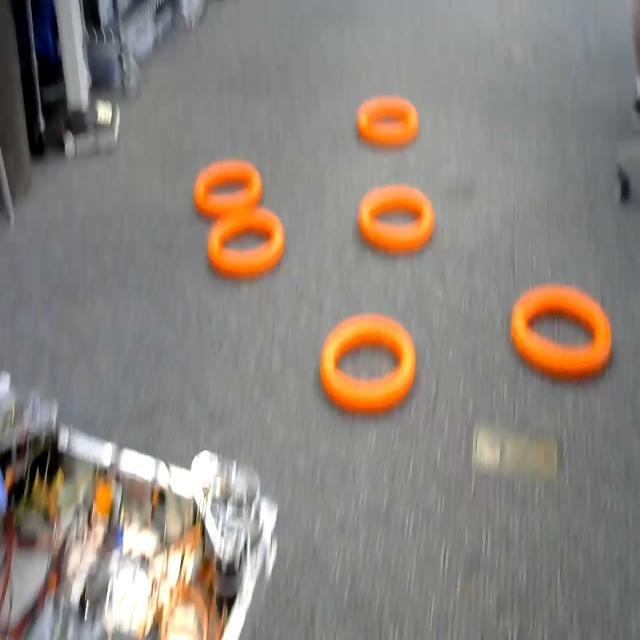note: (317, 308, 420, 423), (511, 278, 615, 388), (356, 182, 437, 259), (206, 216, 285, 278), (190, 158, 270, 211), (356, 94, 423, 147)
